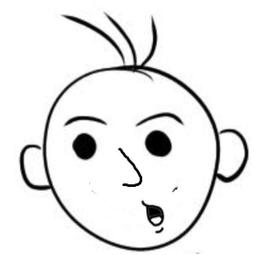ear: (208, 128, 250, 183), (15, 142, 55, 193)
eye: (135, 128, 176, 159), (71, 131, 102, 166)
eyebrow: (130, 109, 184, 128), (64, 114, 110, 129)
nose: (111, 145, 143, 192)
open_mouth: (135, 199, 167, 236)
